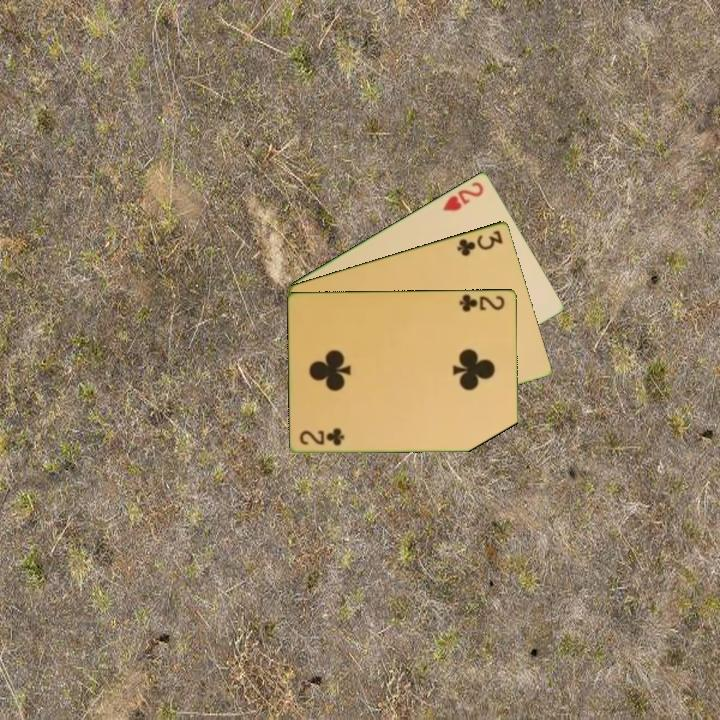2c: (456, 291, 507, 314), (296, 426, 347, 448)
2h: (439, 178, 487, 214)
3c: (454, 226, 506, 259)
